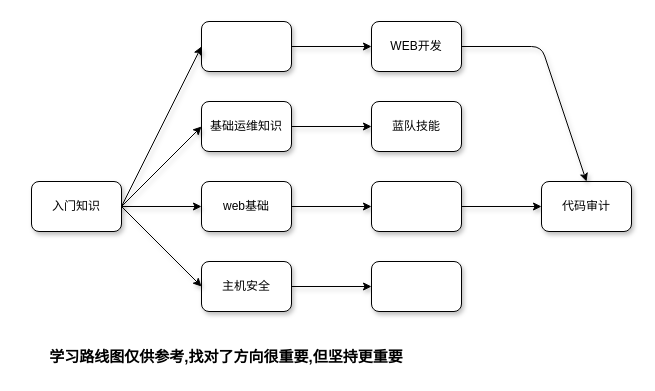
The diagram is 655 pixels wide and 391 high, and some of its shapes have lost their labels. Each missing label, with the centre of its shape:
"web进阶" belongs at (417,207).
"后渗透" belongs at (417,287).
"基础开发知识" belongs at (247,47).
